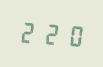two: (18, 17, 38, 46), (40, 19, 60, 47)
zero: (61, 20, 81, 49)
